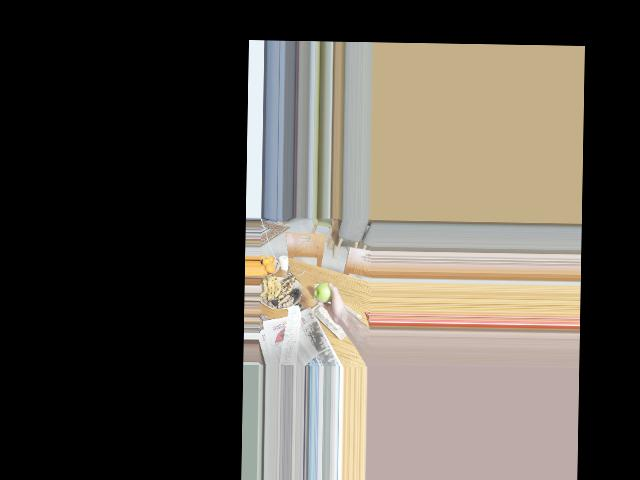apple: (314, 280, 337, 305)
